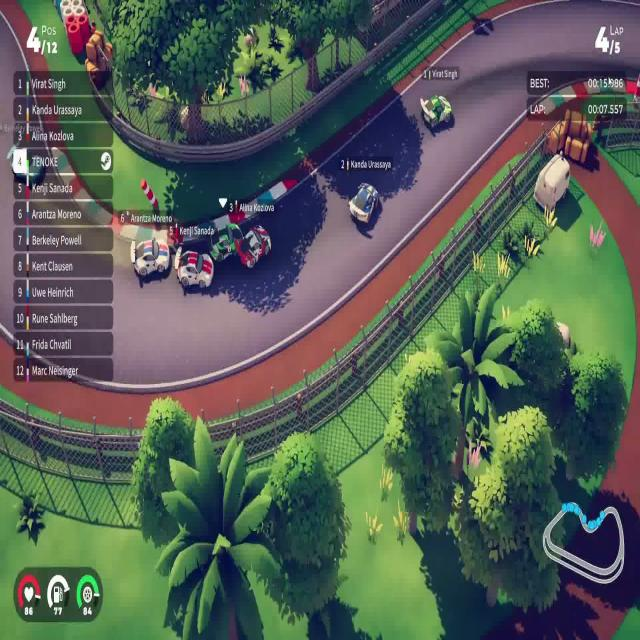car: (234, 223, 272, 270), (130, 236, 170, 280), (175, 248, 214, 291), (347, 181, 379, 225), (419, 93, 453, 131)
